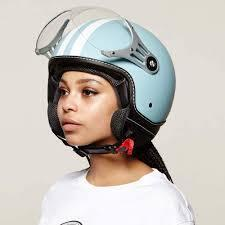helmet: (47, 17, 177, 148)
